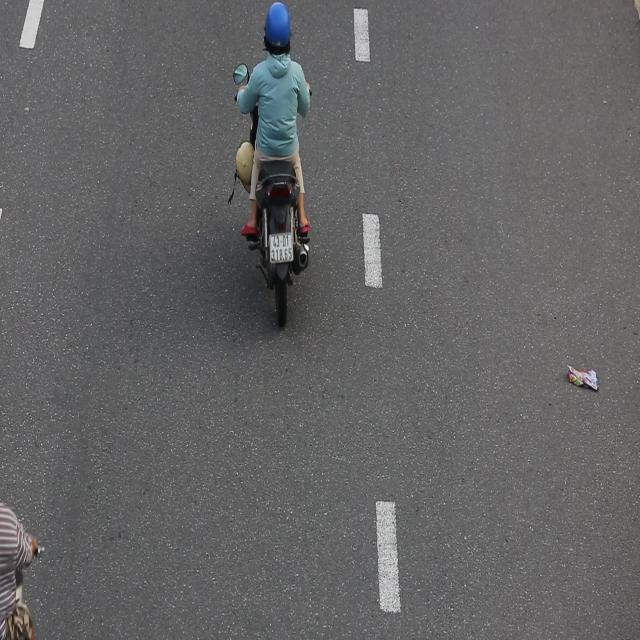motorbike: (231, 4, 319, 338)
